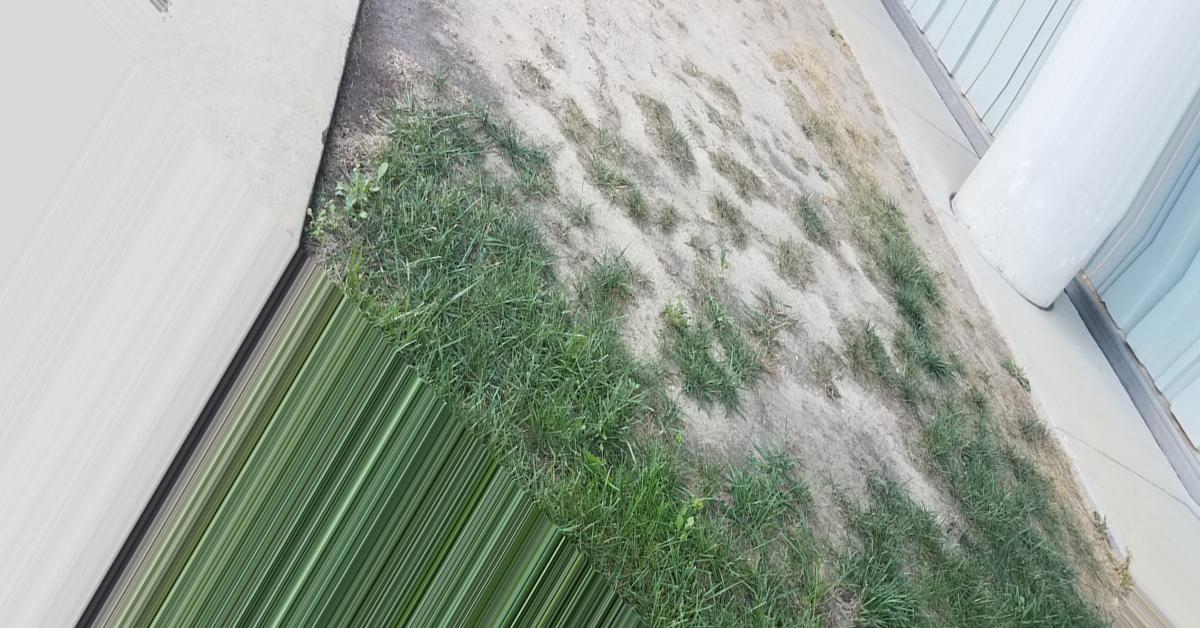patch: (532, 30, 743, 164), (727, 221, 804, 286), (804, 396, 877, 461), (579, 198, 632, 271), (627, 218, 682, 284), (698, 396, 798, 427)
